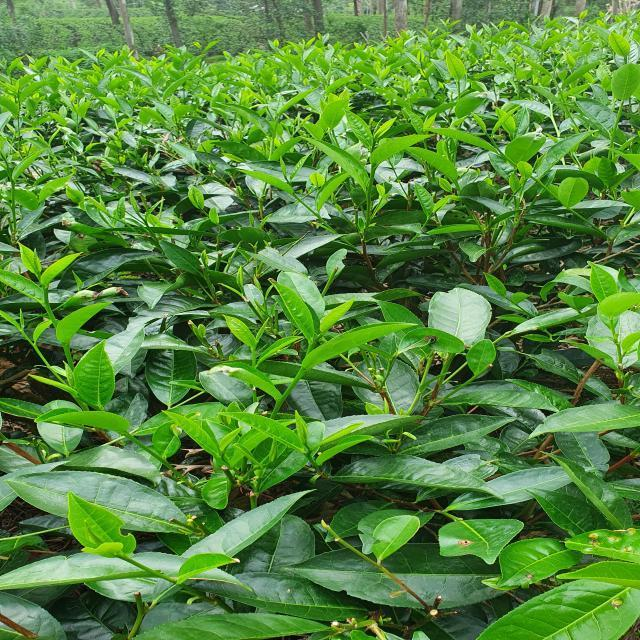Stem: (251, 347, 256, 356), (309, 341, 314, 349), (122, 554, 128, 560), (44, 303, 49, 308), (371, 166, 375, 172), (307, 452, 310, 457), (490, 137, 493, 141), (20, 329, 23, 332), (292, 193, 295, 196)
